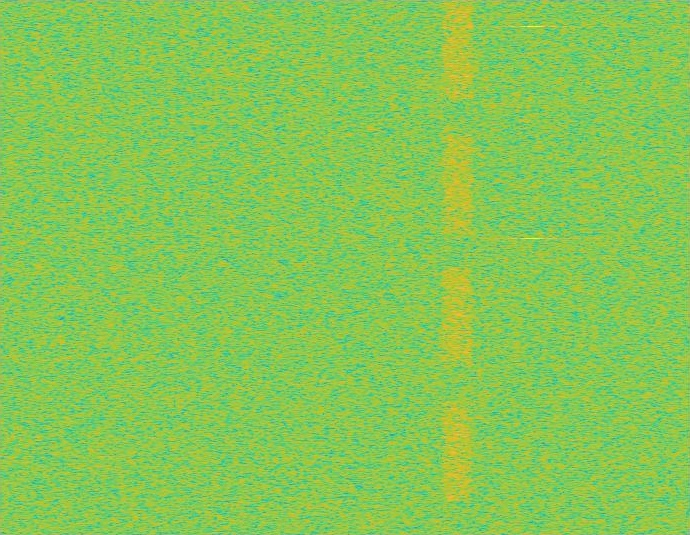5G: (440, 0, 475, 534)
Radar: (526, 0, 539, 534)
